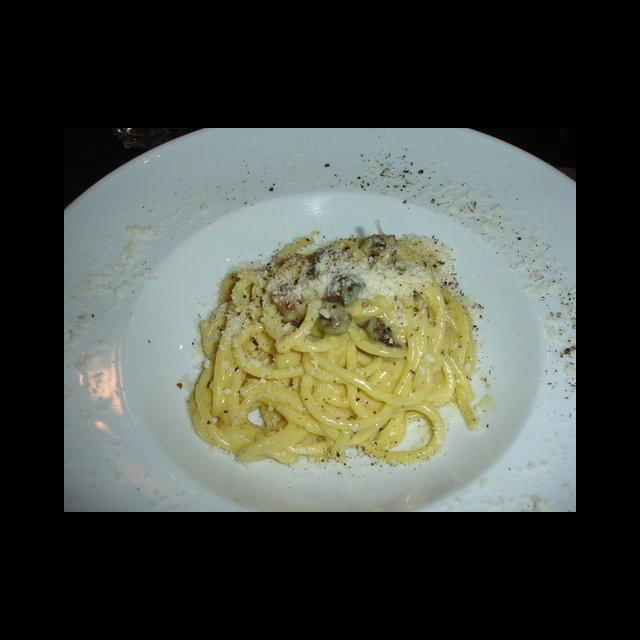noodles: (186, 233, 489, 466)
